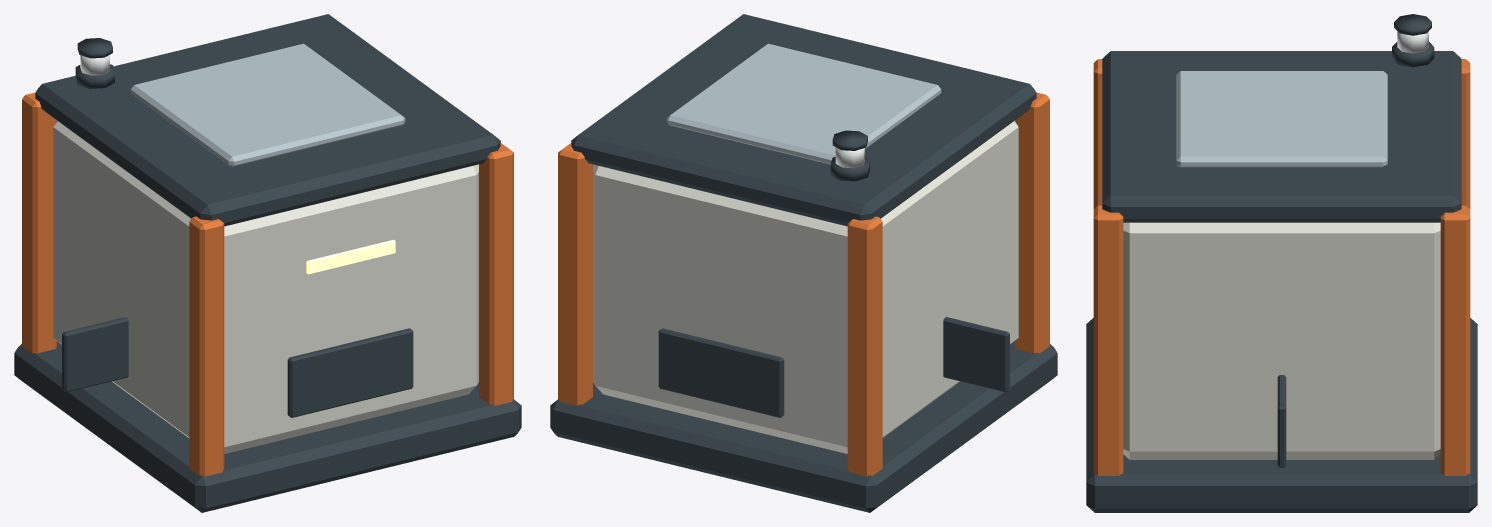
Rendered from storage.glb.
3 views of the same model, side by side, from view 1: azimuth 30°, elevation 25°; view 2: azimuth 150°, elevation 25°; view 3: azimuth 270°, elevation 25° (orthographic). The views are drawn at different scales.
Parts seen in each view (by area): view 1: storage_dark, storage_ivory, storage_orange, storage_metal, storage_light; view 2: storage_ivory, storage_dark, storage_orange, storage_metal; view 3: storage_ivory, storage_dark, storage_metal, storage_orange, Lamp.002.
Boxes of the visible parts, bbox=[...] form: storage_dark: bbox=[14, 14, 521, 512]; storage_ivory: bbox=[53, 121, 478, 453]; storage_orange: bbox=[22, 92, 513, 476]; storage_metal: bbox=[130, 43, 405, 166]; storage_light: bbox=[306, 239, 395, 274]; storage_ivory: bbox=[593, 121, 1018, 453]; storage_dark: bbox=[550, 14, 1057, 512]; storage_orange: bbox=[558, 92, 1049, 476]; storage_metal: bbox=[666, 43, 941, 164]; storage_ivory: bbox=[1123, 222, 1440, 459]; storage_dark: bbox=[1086, 14, 1477, 512]; storage_metal: bbox=[1176, 71, 1387, 167]; storage_orange: bbox=[1093, 59, 1470, 475]; Lamp.002: bbox=[1397, 31, 1428, 53].
Bounding box in the file's own units: 2.32 × 1.86 × 1.85.
